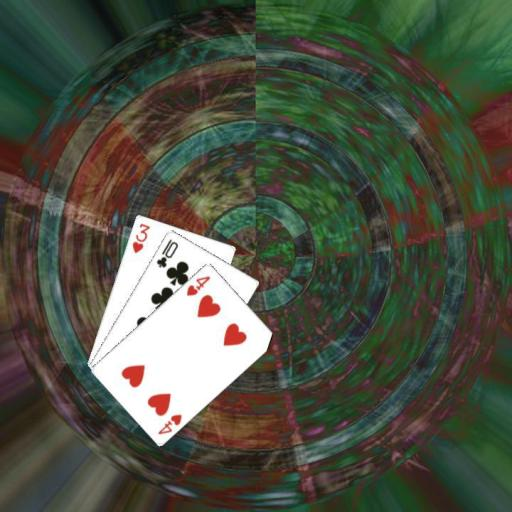10C: (153, 235, 180, 269)
3H: (130, 220, 152, 255)
4H: (155, 410, 184, 436), (183, 273, 212, 298)
